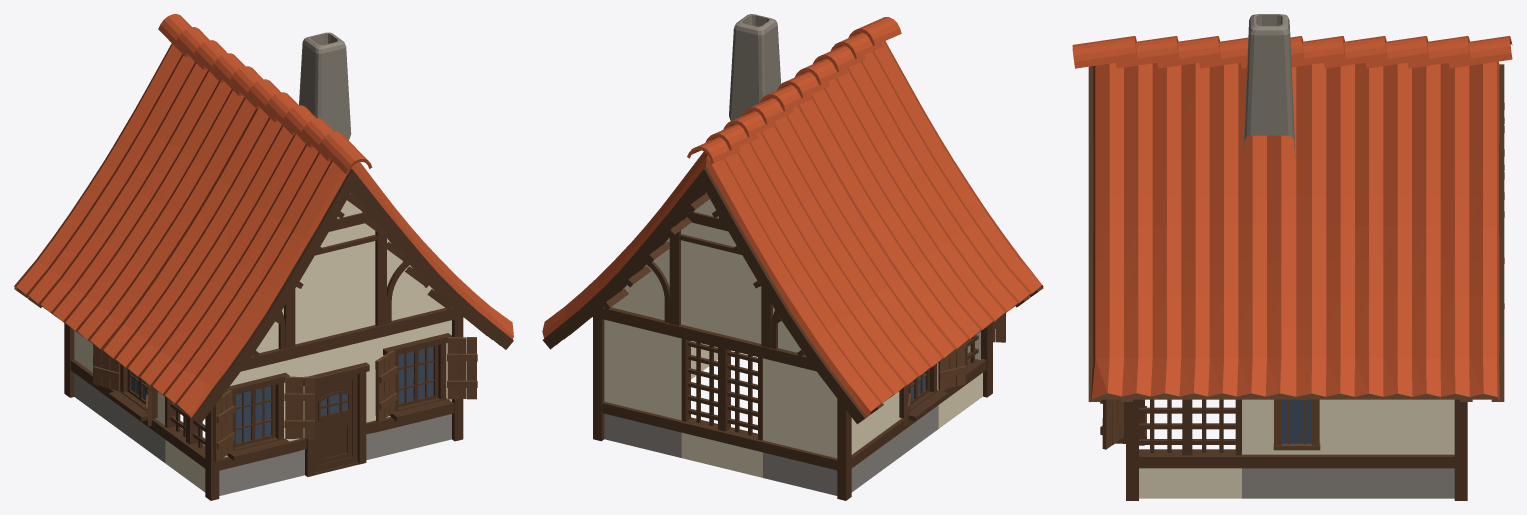
File: cottage_wide.obj
3 renders of one model, left to right at view 1: azimuth 30°, elevation 25°; view 2: azimuth 150°, elevation 25°; view 3: azimuth 270°, elevation 25°, orthographic. The views are drawn at different scales.
Size of the model in its own units: 8.25 by 8.8 by 8.03.
